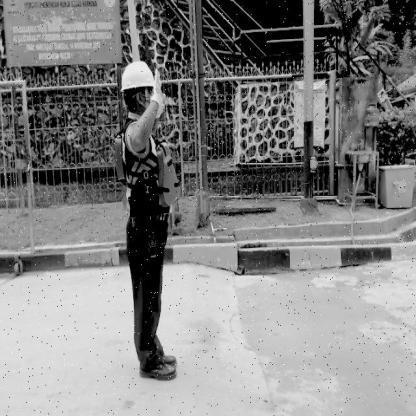boots: (138, 360, 178, 382), (160, 352, 178, 366)
gloves: (149, 67, 164, 108)
helmet: (119, 62, 156, 90)
vest: (112, 133, 182, 211)
